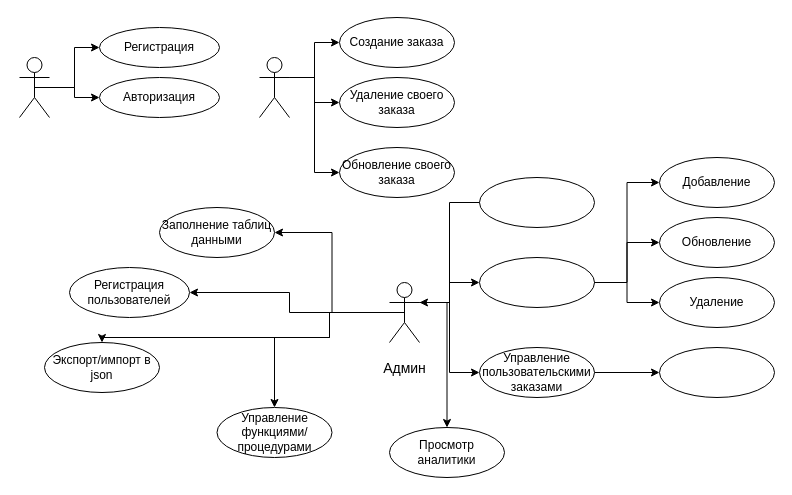
Some shapes in this 792 by 495 pixel diagram are drawn without their labels. Here are the shapes that lost their labels. From the top down, the centre of each, then its label:
At pixel 34 87: "Гость".
At pixel 274 87: "Пользователь".
At pixel 536 202: "Получение данных из таблиц".
At pixel 536 282: "Управление заказами для завода".
At pixel 716 372: "Обновление статуса".
